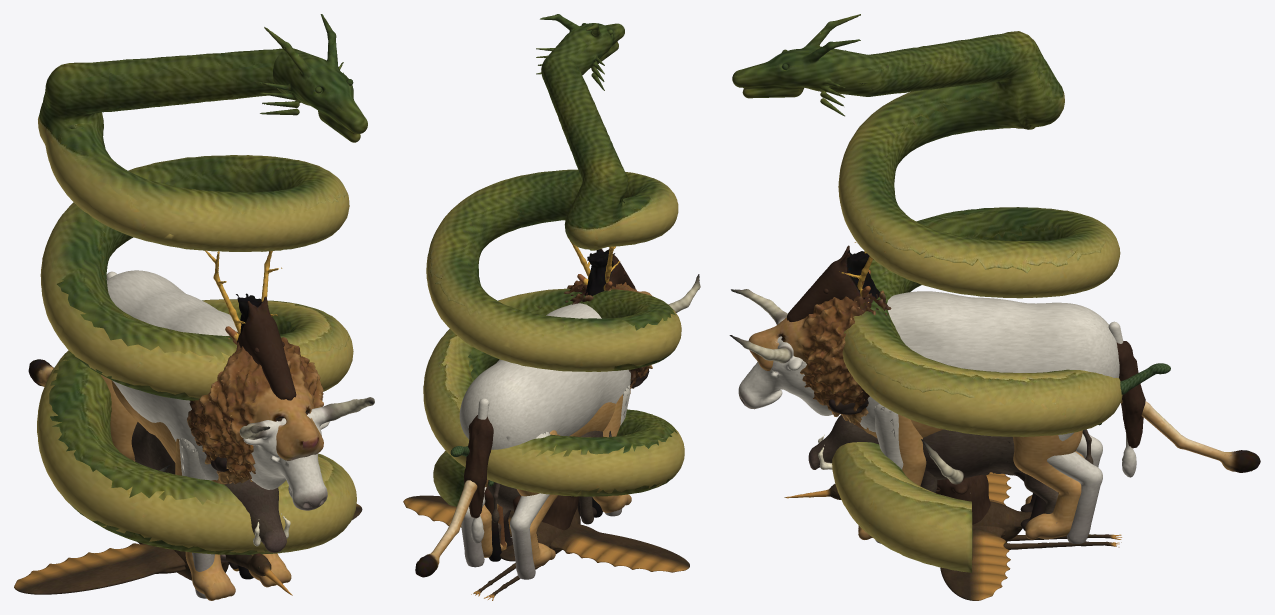
File: criaturas.glb
3 views of the same model, side by side, from view 1: azimuth 30°, elevation 25°; view 2: azimuth 150°, elevation 25°; view 3: azimuth 270°, elevation 25° (orthographic). The views are drawn at different scales.
Parts seen in each view (by area): view 1: CR_ladon_cuerpo, CR_toro_cuerpo, CR_leon_cuerpo, CR_ladon_cabeza, CR_ave_aI, CR_jabali_cuerpo, CR_yegua_cuerpo, CR_leon_pDI, CR_leon_pTI, CR_toro_pDI, CR_ave_cuerpo, CR_cierva_cuerpo (+2 smaller); view 2: CR_ladon_cuerpo, CR_toro_cuerpo, CR_ave_aI, CR_ladon_cabeza, CR_yegua_cola, CR_toro_pTI, CR_leon_cuerpo, CR_leon_cola, CR_yegua_cuerpo, CR_ave_cuerpo, CR_ave_aD, CR_leon_pTI (+8 smaller); view 3: CR_ladon_cuerpo, CR_toro_cuerpo, CR_leon_cuerpo, CR_ladon_cabeza, CR_jabali_cuerpo, CR_leon_pTD, CR_ave_aD, CR_yegua_cuerpo, CR_toro_pTD, CR_ave_cuerpo, CR_mino_cabeza, CR_leon_cola (+3 smaller).
Part boxes in pixels (x1,y1,x2,y2): CR_ladon_cuerpo: (37, 48, 356, 554); CR_toro_cuerpo: (107, 270, 374, 510); CR_leon_cuerpo: (111, 331, 323, 484); CR_ladon_cabeza: (259, 14, 367, 142); CR_ave_aI: (14, 543, 185, 594); CR_jabali_cuerpo: (131, 422, 290, 552); CR_yegua_cuerpo: (236, 293, 296, 400); CR_leon_pDI: (175, 438, 235, 600); CR_leon_pTI: (100, 374, 137, 461); CR_toro_pDI: (179, 438, 214, 598); CR_ave_cuerpo: (137, 542, 292, 595); CR_cierva_cuerpo: (204, 250, 282, 340); CR_ladon_cuerpo: (423, 55, 684, 506); CR_toro_cuerpo: (459, 253, 700, 449); CR_ave_aI: (549, 524, 689, 572); CR_ladon_cabeza: (536, 14, 624, 90); CR_yegua_cola: (464, 415, 493, 518); CR_toro_pTI: (510, 431, 550, 579); CR_leon_cuerpo: (558, 278, 652, 436); CR_leon_cola: (415, 480, 477, 577); CR_yegua_cuerpo: (585, 248, 635, 295); CR_ave_cuerpo: (471, 506, 580, 600); CR_ave_aD: (403, 495, 513, 537); CR_leon_pTI: (517, 430, 557, 567); CR_ladon_cuerpo: (832, 31, 1122, 572); CR_toro_cuerpo: (729, 289, 1119, 432); CR_leon_cuerpo: (748, 290, 942, 438); CR_ladon_cabeza: (732, 14, 885, 116); CR_jabali_cuerpo: (808, 415, 1075, 479); CR_leon_pTD: (1013, 430, 1082, 539); CR_ave_aD: (940, 525, 1010, 600); CR_yegua_cuerpo: (787, 245, 879, 321); CR_toro_pTD: (1047, 432, 1102, 543); CR_ave_cuerpo: (784, 484, 1121, 549); CR_mino_cabeza: (921, 439, 990, 524); CR_leon_cola: (1121, 400, 1260, 472).
Bounding box in the file's own units: 2.44 × 3.98 × 3.56.
Materials: 10 (10 with a texture image).
